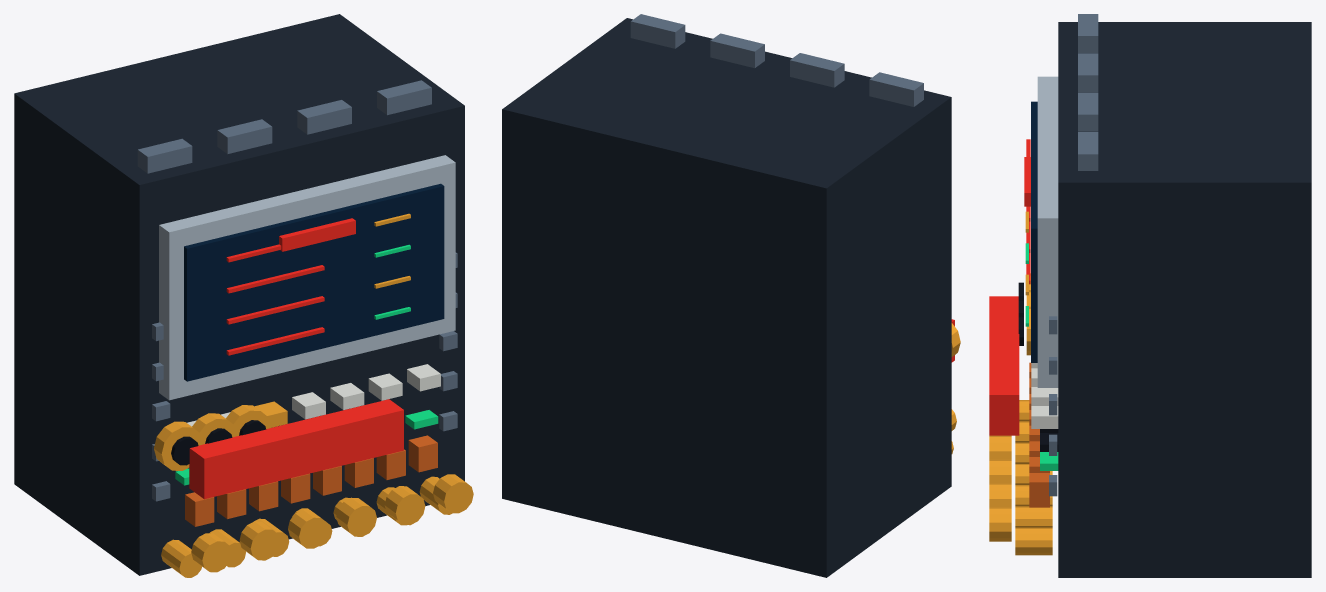
Rendered from 80_L87_W137CriticalFeedbackPatchStation.fbx.
The picture shows the model from 3 angles, left to right: view 1: azimuth 30°, elevation 25°; view 2: azimuth 150°, elevation 25°; view 3: azimuth 270°, elevation 25°; orthographic projection.
Parts seen in each view (by area): view 1: L87_W137CriticalFeedbackPatchStation, L87_W137CriticalFeedbackPatchStation_Part_0011, L87_W137CriticalFeedbackPatchStation_Part_0010, L87_W137CriticalFeedbackPatchStation_Part_0012, L87_W137CriticalFeedbackPatchStation_Part_0016, L87_W137CriticalFeedbackPatchStation_Part_0014; view 2: L87_W137CriticalFeedbackPatchStation, L87_W137CriticalFeedbackPatchStation_Part_0010; view 3: L87_W137CriticalFeedbackPatchStation, L87_W137CriticalFeedbackPatchStation_Part_0011, L87_W137CriticalFeedbackPatchStation_Part_0010.
Part boxes in pixels (left/top/right/bottom): L87_W137CriticalFeedbackPatchStation: left=14, top=14, right=473, bottom=577; L87_W137CriticalFeedbackPatchStation_Part_0011: left=189, top=218, right=403, bottom=499; L87_W137CriticalFeedbackPatchStation_Part_0010: left=137, top=80, right=431, bottom=173; L87_W137CriticalFeedbackPatchStation_Part_0012: left=154, top=421, right=203, bottom=470; L87_W137CriticalFeedbackPatchStation_Part_0016: left=226, top=405, right=271, bottom=436; L87_W137CriticalFeedbackPatchStation_Part_0014: left=192, top=413, right=237, bottom=444; L87_W137CriticalFeedbackPatchStation: left=502, top=18, right=956, bottom=577; L87_W137CriticalFeedbackPatchStation_Part_0010: left=630, top=14, right=923, bottom=106; L87_W137CriticalFeedbackPatchStation: left=989, top=22, right=1311, bottom=577; L87_W137CriticalFeedbackPatchStation_Part_0011: left=989, top=157, right=1030, bottom=435; L87_W137CriticalFeedbackPatchStation_Part_0010: left=1078, top=14, right=1098, bottom=170.
Size of the model in its own units: 101 by 121 by 85.66.
